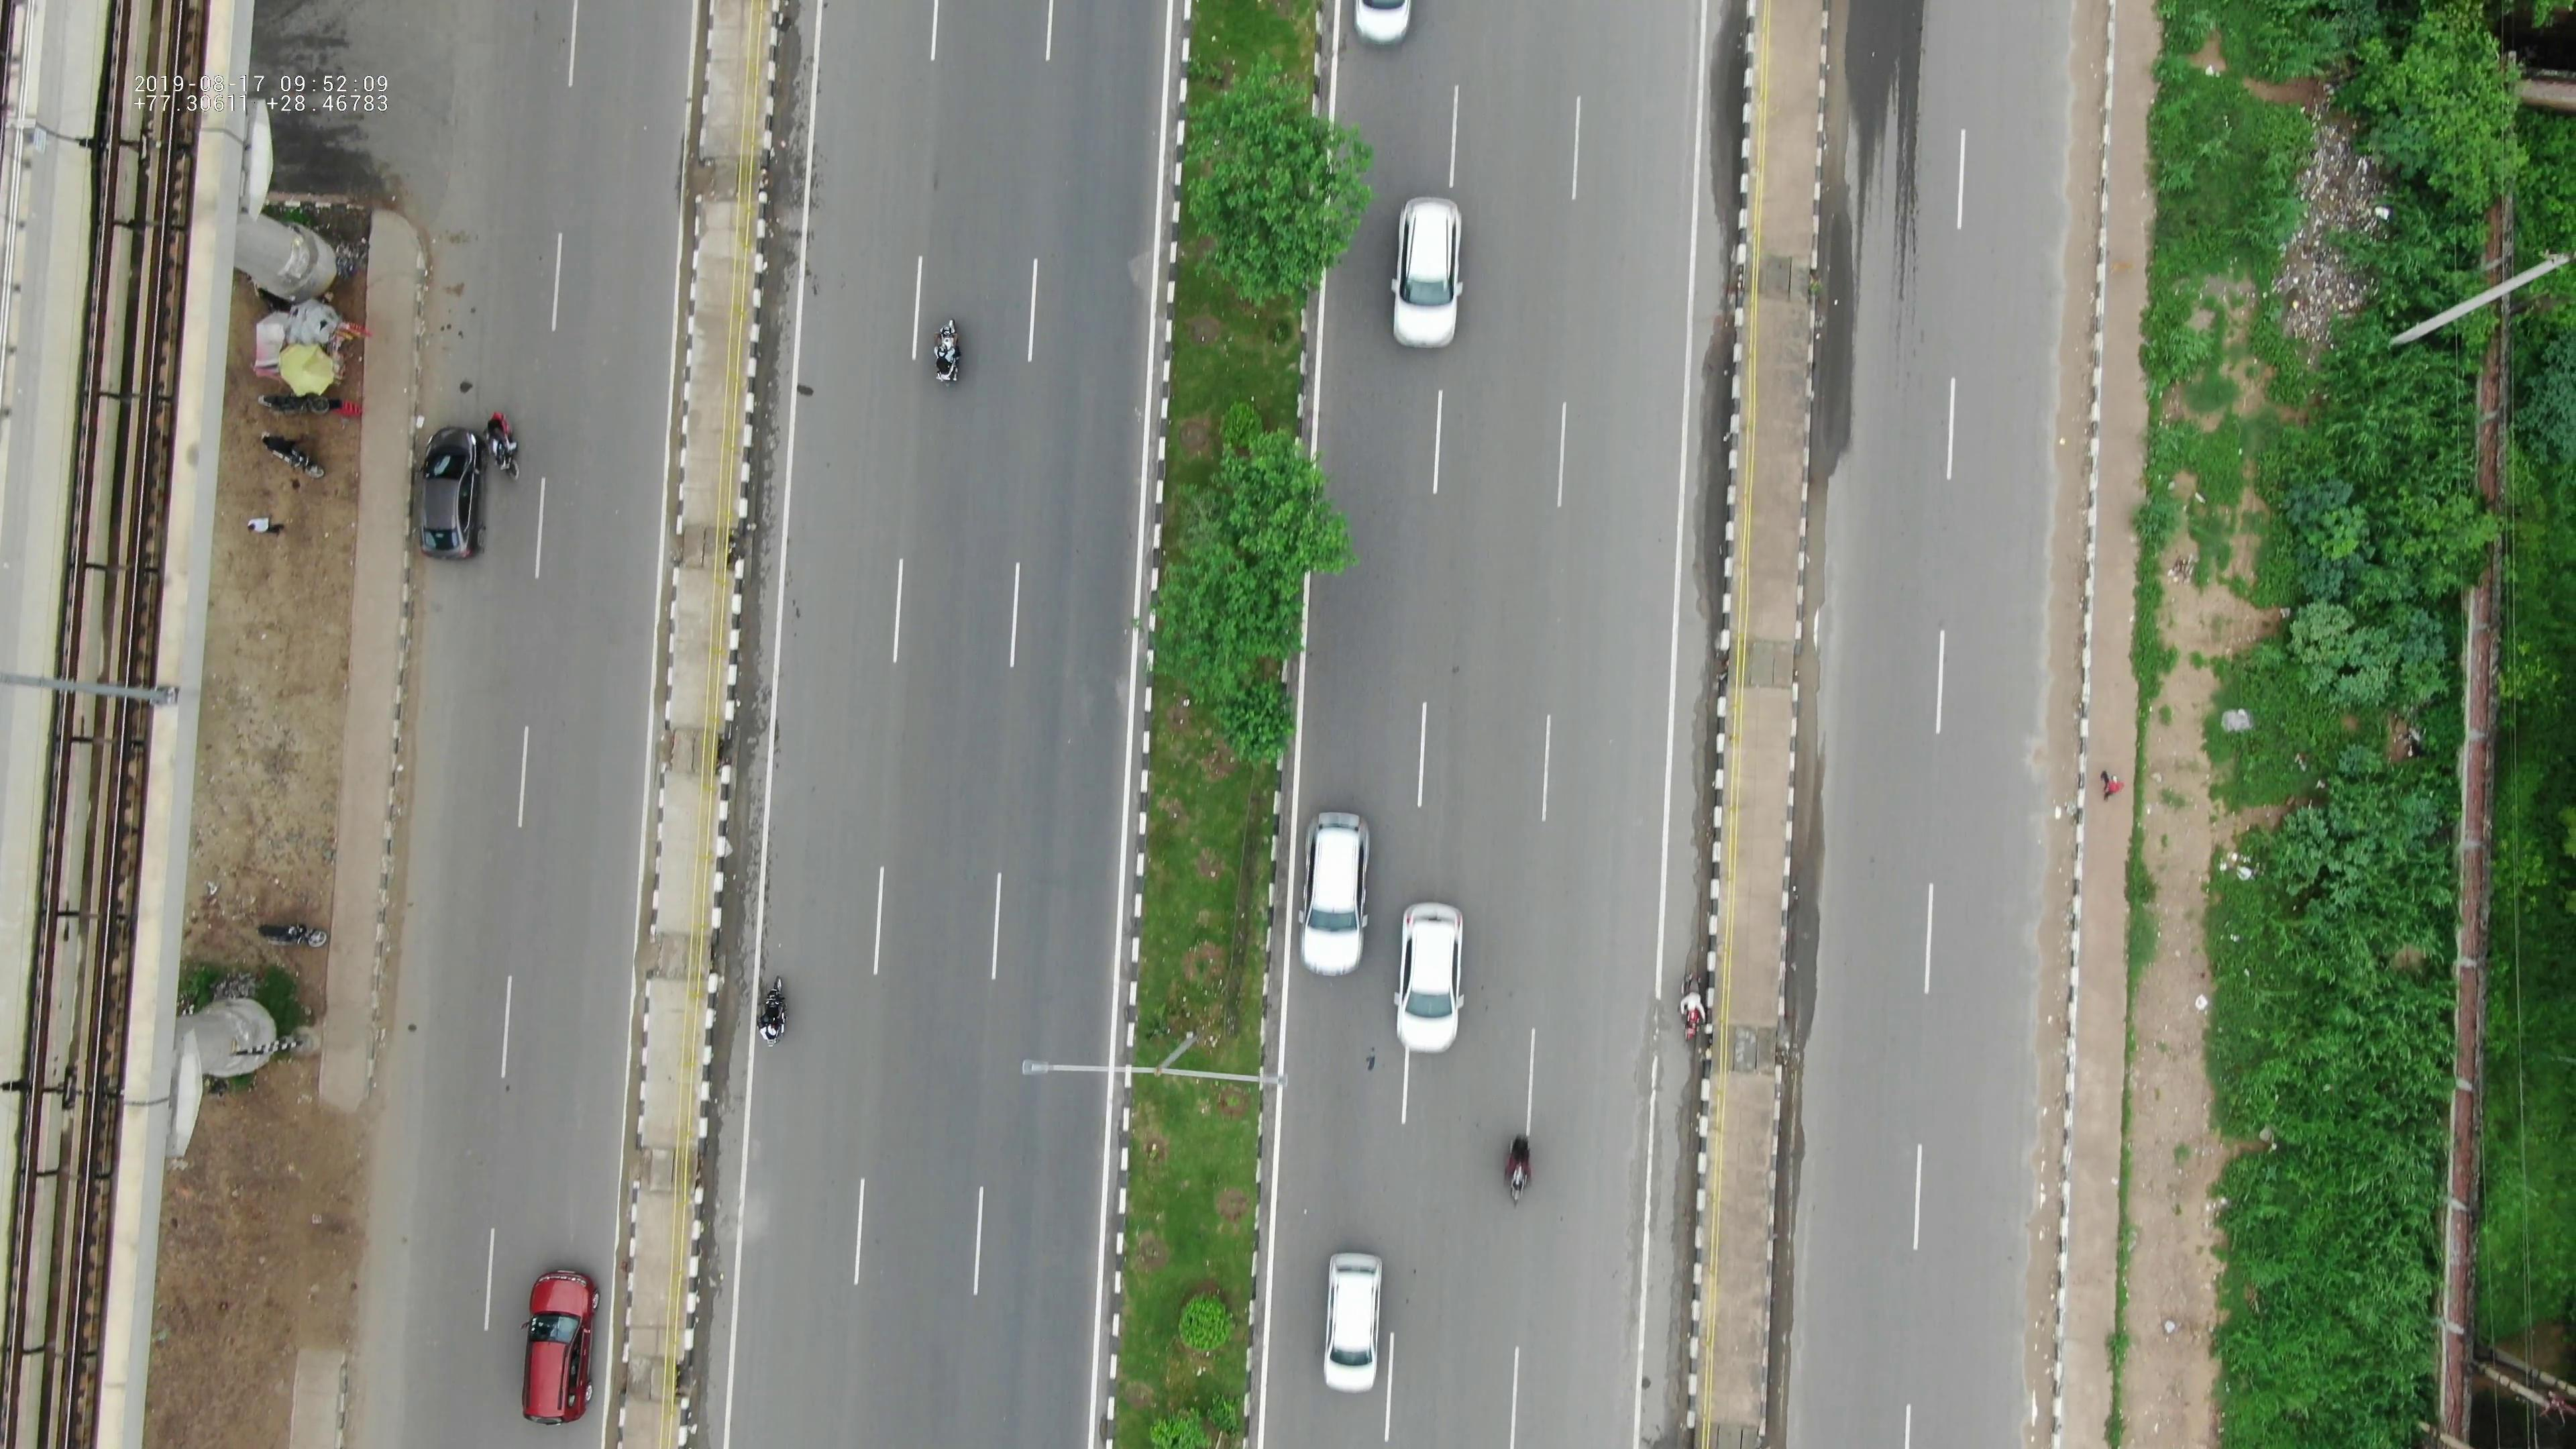Muddy_road: (2043, 5, 2123, 295), (2043, 322, 2107, 619)
Road_side_garbage: (2273, 108, 2401, 349)
